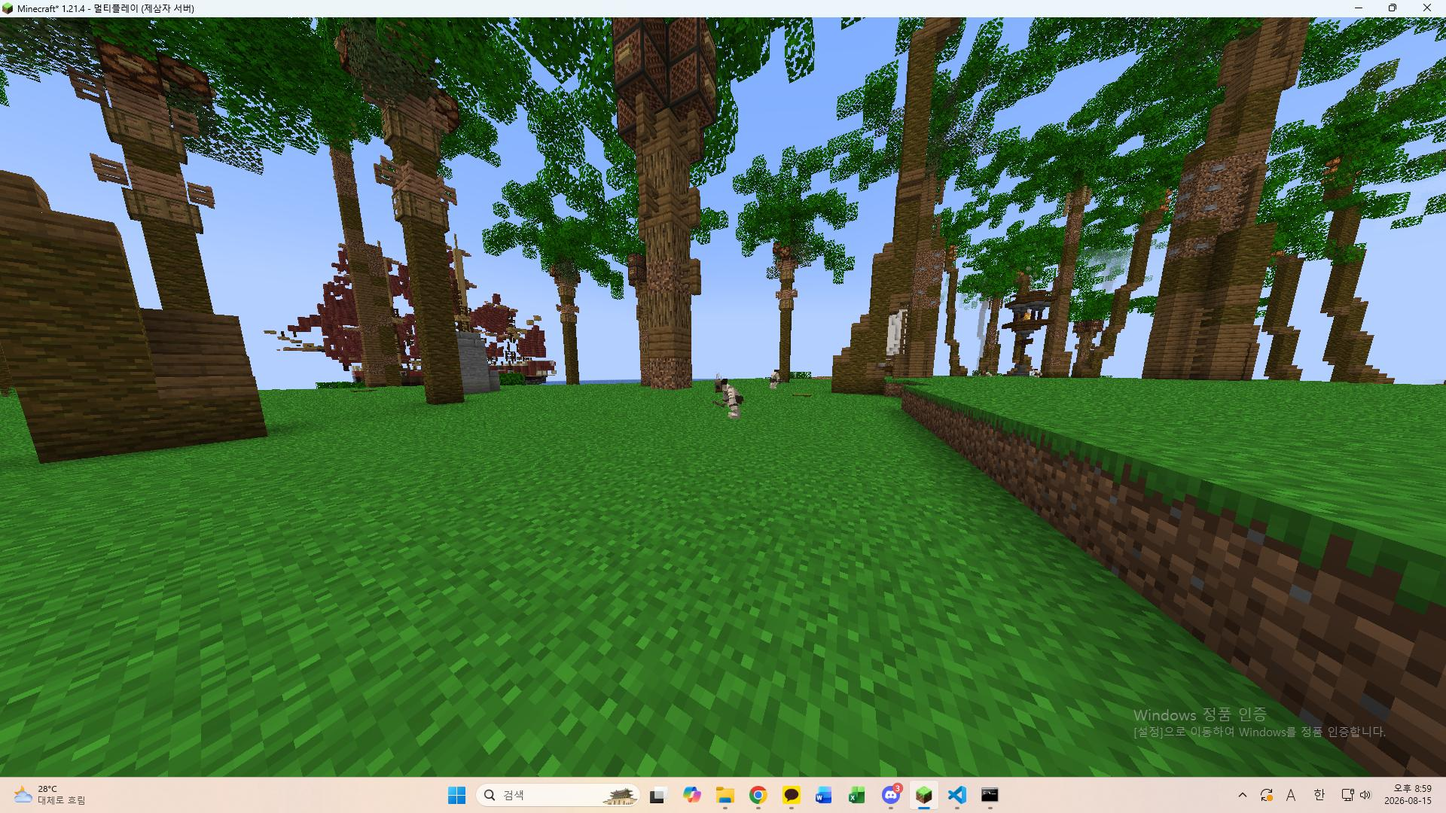bow_indian: (698, 372, 763, 429)
